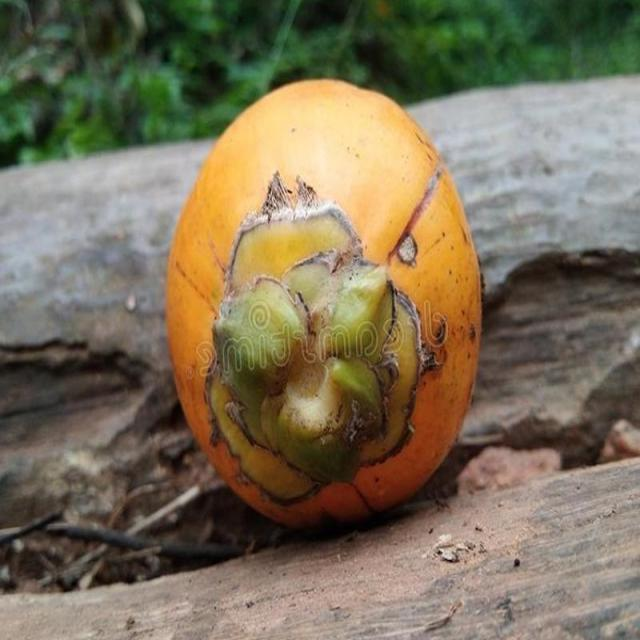good: (166, 80, 482, 531)
